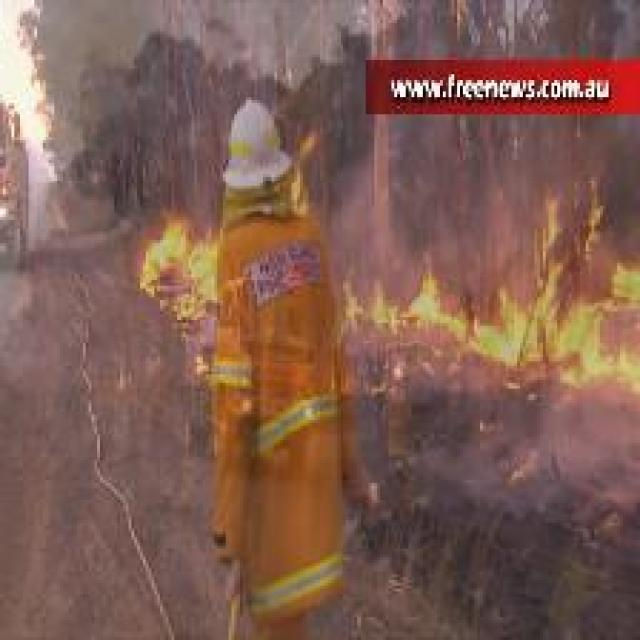fire: (342, 222, 633, 395), (115, 190, 217, 324)
